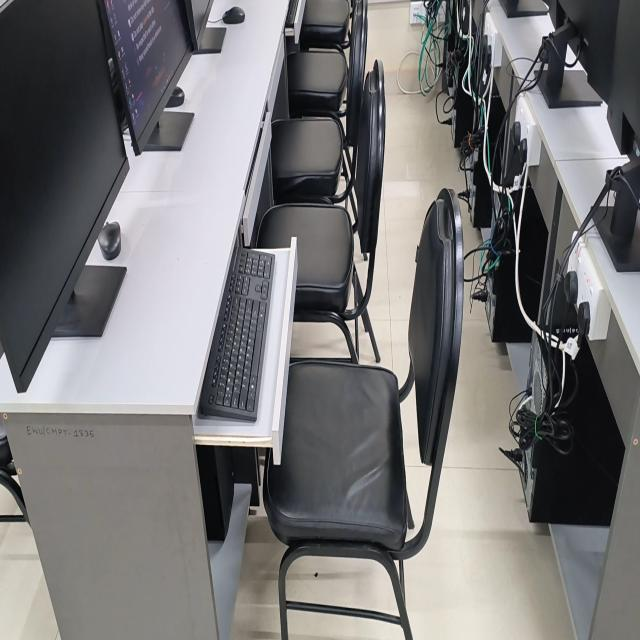Chair: (263, 188, 464, 639), (258, 61, 385, 363), (271, 0, 367, 203), (288, 50, 348, 116), (0, 421, 29, 521), (299, 0, 350, 49)
Cpu: (516, 319, 626, 527), (482, 180, 551, 343), (465, 93, 509, 226), (196, 446, 234, 539)
Keyboard: (199, 247, 275, 418), (285, 0, 298, 27)
Monitor: (0, 0, 129, 392), (99, 0, 194, 155), (597, 0, 640, 271), (539, 0, 619, 108), (186, 0, 226, 53)
Mouse: (98, 221, 121, 260), (223, 7, 245, 24), (166, 87, 184, 107)
